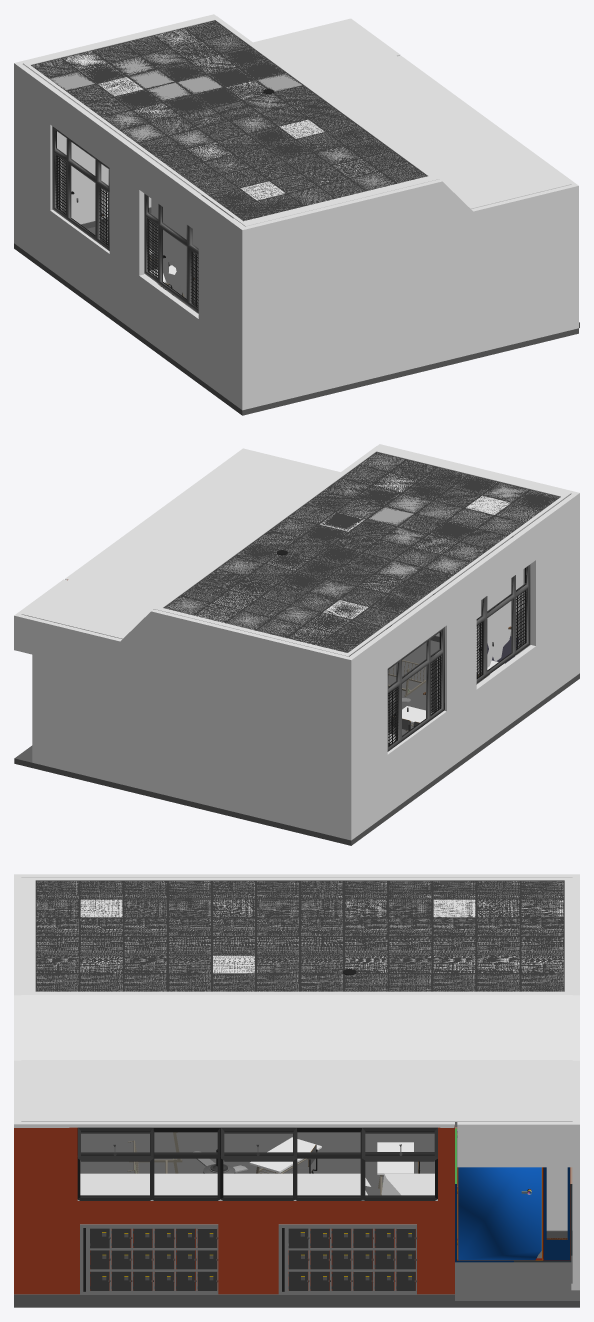
The model's file is Aula N1.fbx.
3 renders of one model, top to bottom at view 1: azimuth 30°, elevation 25°; view 2: azimuth 150°, elevation 25°; view 3: azimuth 270°, elevation 25°, orthographic. The views are drawn at different scales.
Visible parts, largest first — view 1: Pared.003, Techo, Ventana afuera.001, Piso, Ventana afuera.002; view 2: Pared.003, Techo, Piso, Ventana afuera.001, Ventana afuera.002; view 3: Techo, Pared.003, Lockers, Piso, Ventana, Puerta, MarcoPuerta, Banco.009, Banco.014.
Boxes of the visible parts, <box> form: Pared.003: <box>14,14,579,410</box>; Techo: <box>23,16,571,226</box>; Ventana afuera.001: <box>144,193,198,312</box>; Piso: <box>14,199,578,415</box>; Ventana afuera.002: <box>52,126,109,250</box>; Pared.003: <box>32,444,579,840</box>; Techo: <box>14,446,570,656</box>; Piso: <box>14,629,579,845</box>; Ventana afuera.001: <box>476,564,530,683</box>; Ventana afuera.002: <box>387,627,444,751</box>; Techo: <box>21,877,579,1167</box>; Pared.003: <box>14,874,579,1301</box>; Lockers: <box>80,1224,417,1294</box>; Piso: <box>14,1122,579,1307</box>; Ventana: <box>77,1127,437,1200</box>; Puerta: <box>458,1167,541,1260</box>; MarcoPuerta: <box>455,1127,572,1262</box>; Banco.009: <box>249,1137,321,1173</box>; Banco.014: <box>377,1142,413,1195</box>.
Size of the model in its own units: 674 by 346 by 770.
31 materials, 30 textured.
